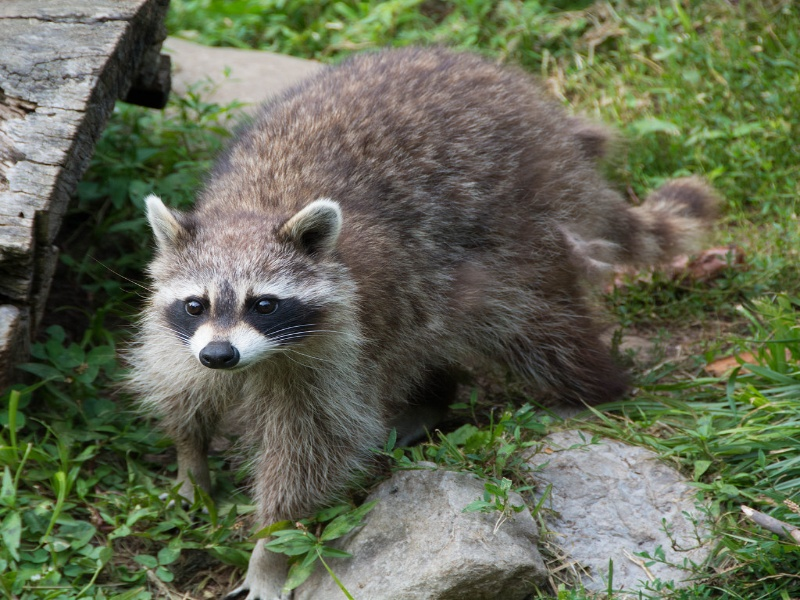raccoon: (123, 47, 721, 597)
